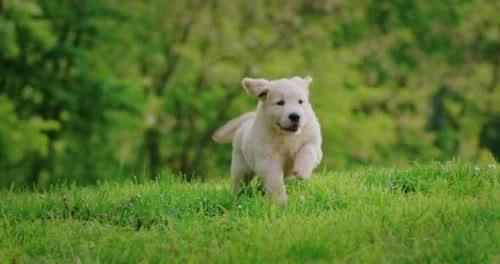puppy-dog: (211, 75, 324, 214)
